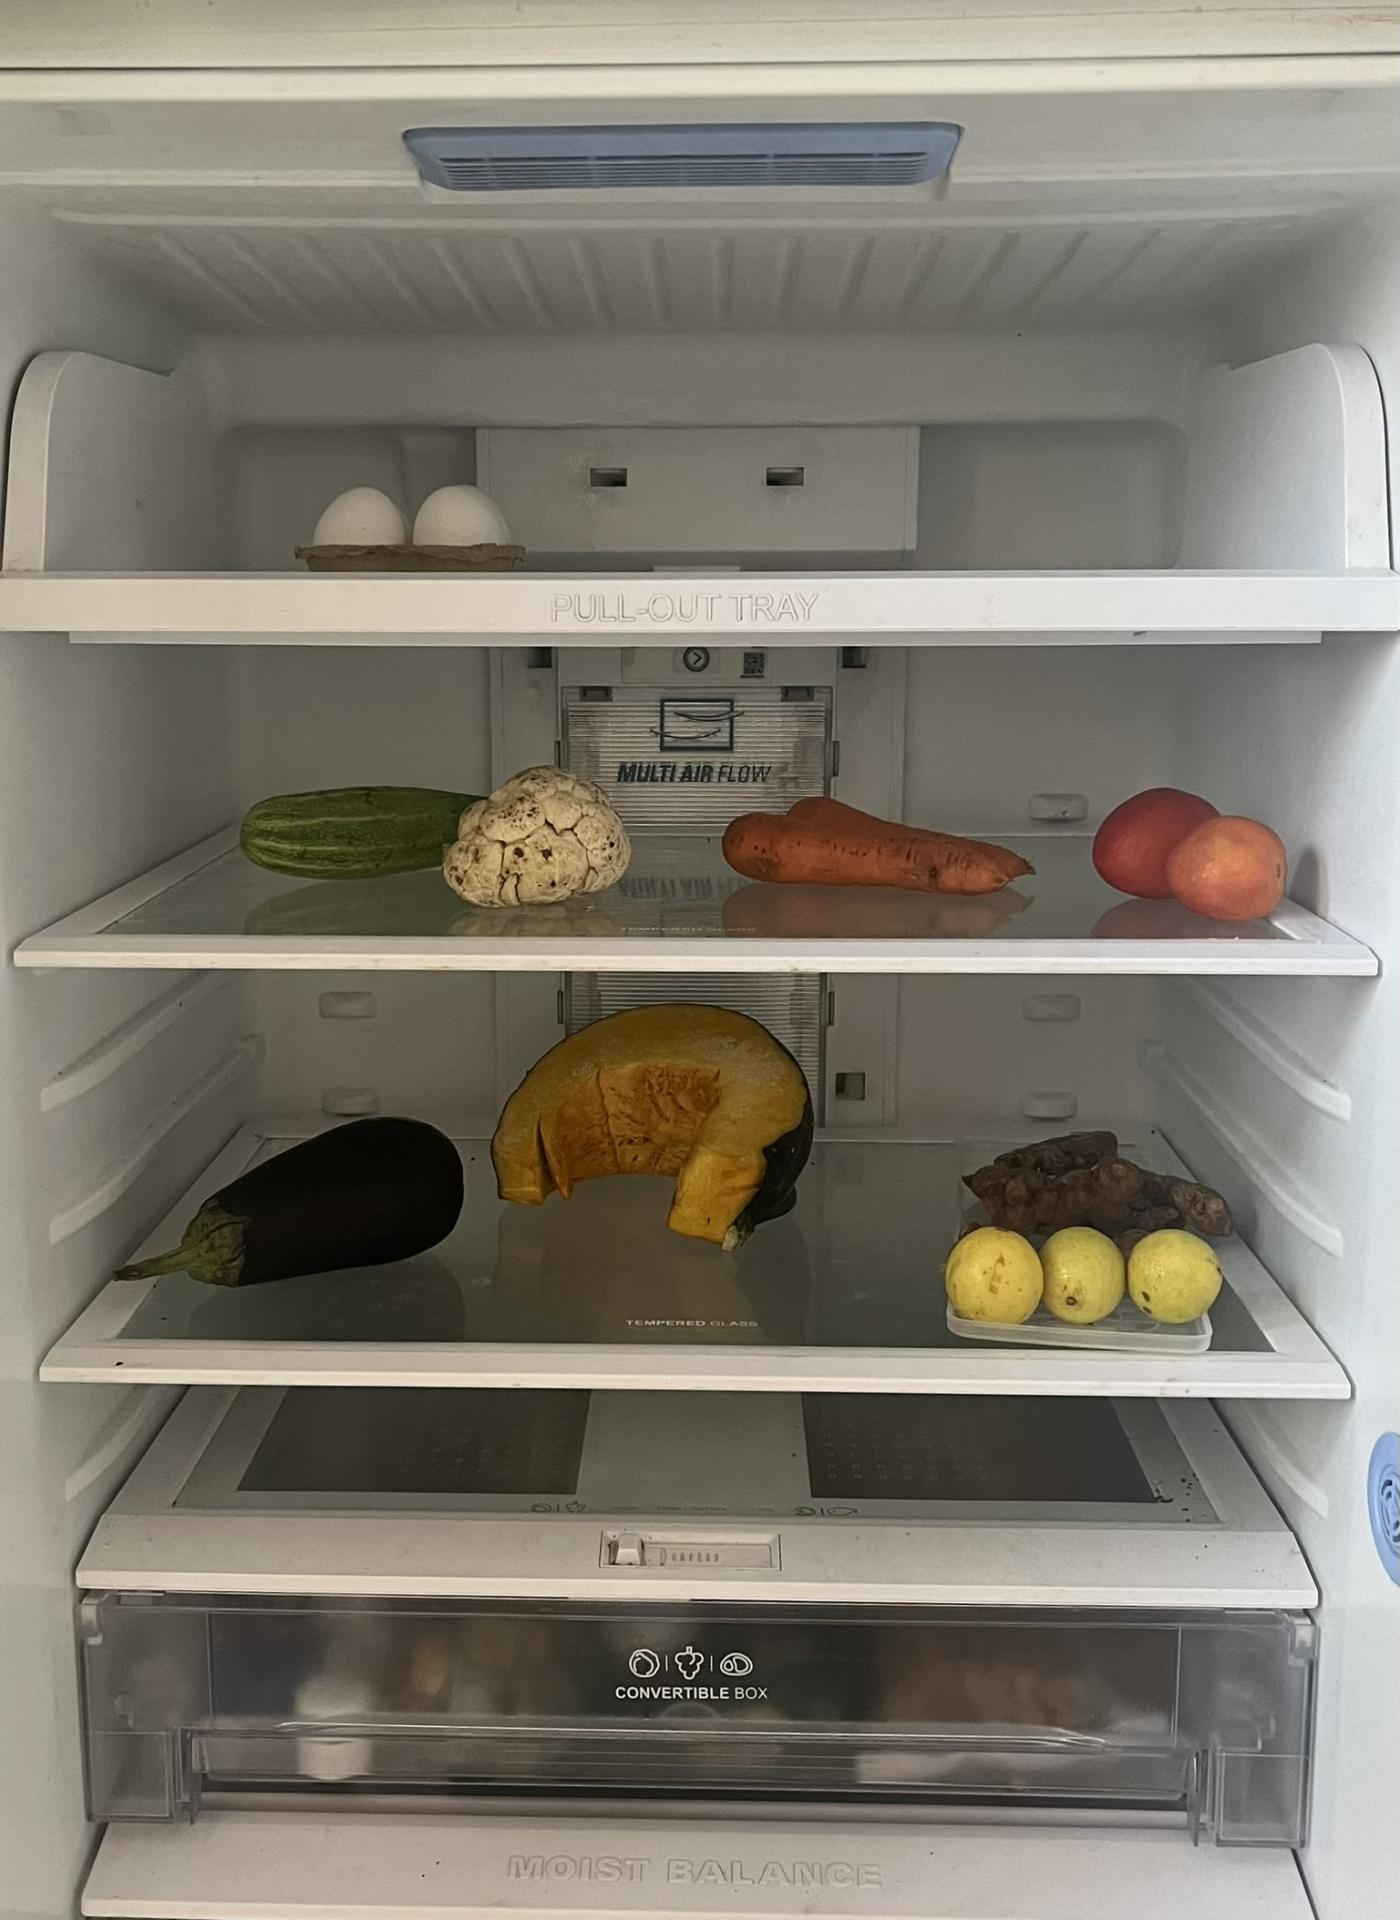brinjal: (128, 1112, 473, 1282)
carrots: (722, 793, 1026, 896)
cauliflower: (441, 765, 631, 900)
cucumber: (236, 784, 499, 875)
egg: (309, 484, 516, 571)
ginger: (953, 1125, 1240, 1248)
lemon: (939, 1221, 1230, 1322)
pumpkin: (488, 994, 819, 1242)
tomato: (1102, 780, 1300, 917)
